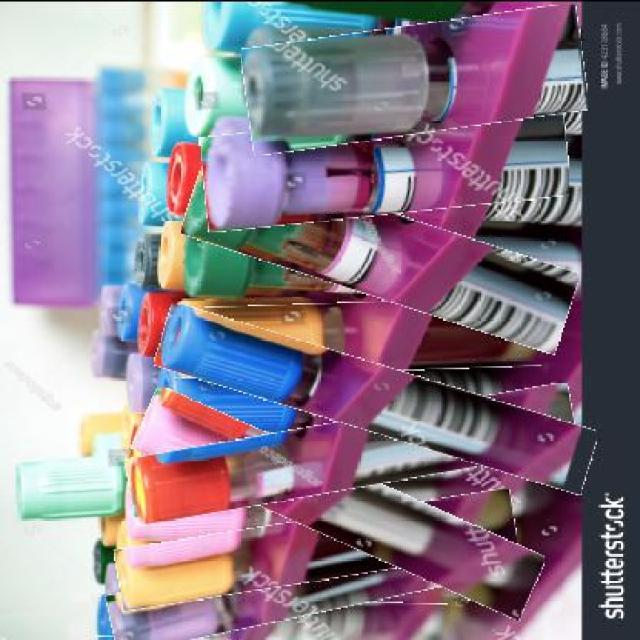Experimental-tube: (128, 426, 548, 579), (155, 333, 599, 462), (182, 182, 578, 324), (126, 399, 579, 506), (243, 13, 588, 142), (201, 108, 570, 222), (107, 536, 493, 636), (116, 501, 518, 594), (173, 298, 542, 374), (90, 592, 456, 638)
